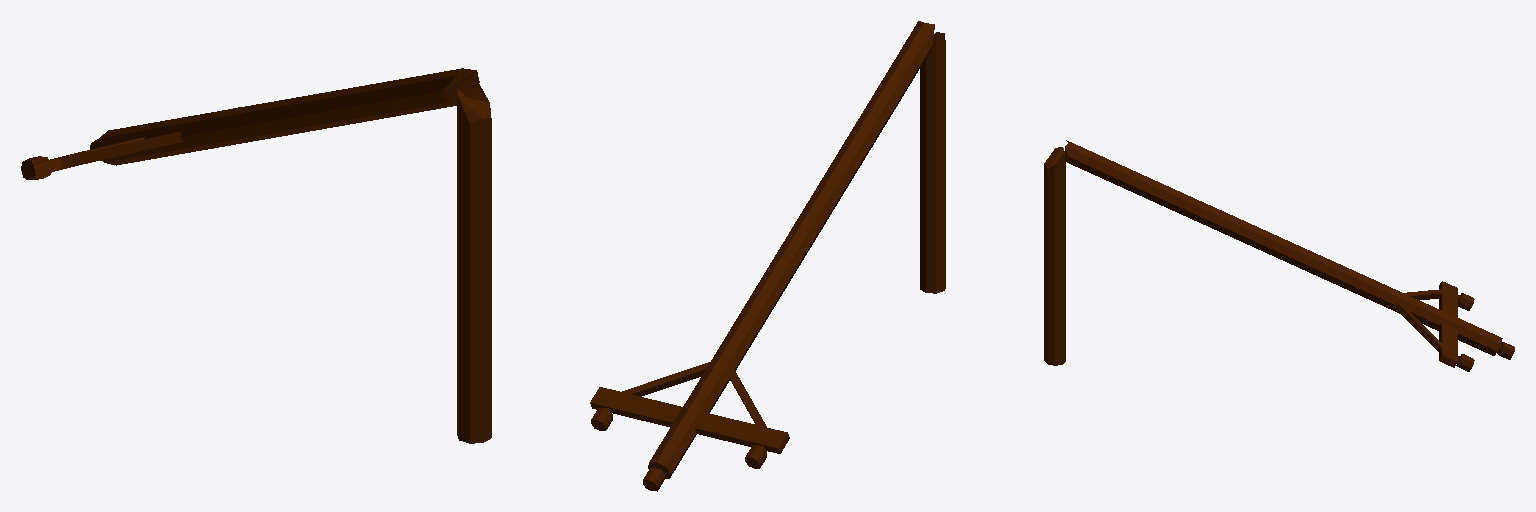
URDF robot description (pylon_broken):
<?xml version="1.0" ?>

<robot name="pylon_broken" xmlns:xacro="http://ros.org/wiki/xacro">
  <gazebo>
    <static>true</static>
  </gazebo>
  <link name="pylon_broken">
    <!--MAIN_BODY-->
    <visual>
      <origin rpy="0 0 0" xyz="0 0 0"/>
      <geometry>
        <mesh filename="package://iai_outdoor_models/models/pylon_broken/pylon_broken.stl"/>
      </geometry>
      <material name="IAI_RESCUE/pylon_broken">
       <color rgba="0.31 0.15 0.033 1.0"/>
     </material>
    </visual>
    <collision>
      <origin rpy="0 0 0" xyz="0 0 0"/>
      <geometry>
        <mesh filename="package://iai_outdoor_models/models/pylon_broken/pylon_broken.stl"/>
      </geometry>
    </collision>
    <inertial>
      <mass value=".1"/>
      <origin xyz="0 0 0"/>
      <inertia ixx="0.001" ixy="0.0" ixz="0.0" iyy="0.001" iyz="0.0" izz="0.001"/>
    </inertial>
  </link>
</robot>
 

--- What the picture shows (computed from the rendered views, not written in the file) ---
Views: 3 orthographic renders of the robot side by side, from view 1: azimuth 30°, elevation 25°; view 2: azimuth 150°, elevation 25°; view 3: azimuth 270°, elevation 25°.
Model pylon_broken with 1 links and 0 joints (none), rooted at pylon_broken, posed every joint at zero.
Visible links, largest first — view 1: pylon_broken; view 2: pylon_broken; view 3: pylon_broken.
Boxes of the visible links, x1=… form: pylon_broken: x1=21, y1=68, x2=491, y2=443; pylon_broken: x1=590, y1=21, x2=945, y2=491; pylon_broken: x1=1044, y1=140, x2=1514, y2=371.
Bounding box of the posed robot: 2 × 5.36 × 2.76 m (x, y, z).
1 mesh visuals loaded from 1 distinct referenced files (1 binary STL).